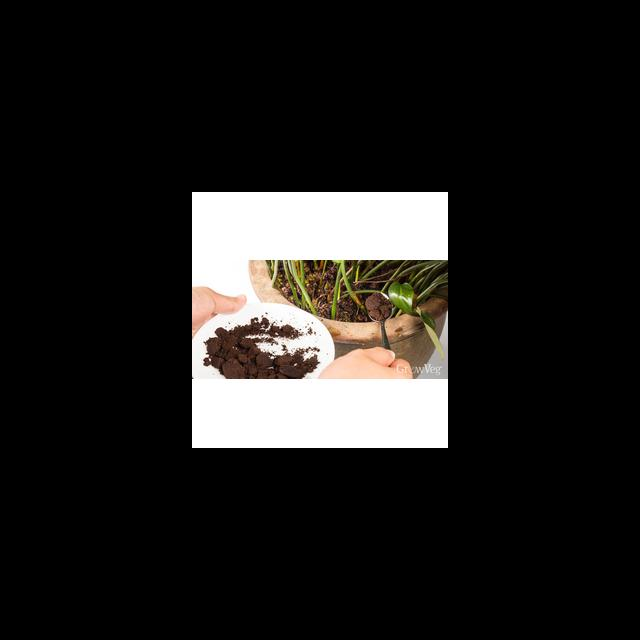food_waste: (229, 336, 286, 379), (322, 275, 356, 315), (364, 291, 391, 316)
